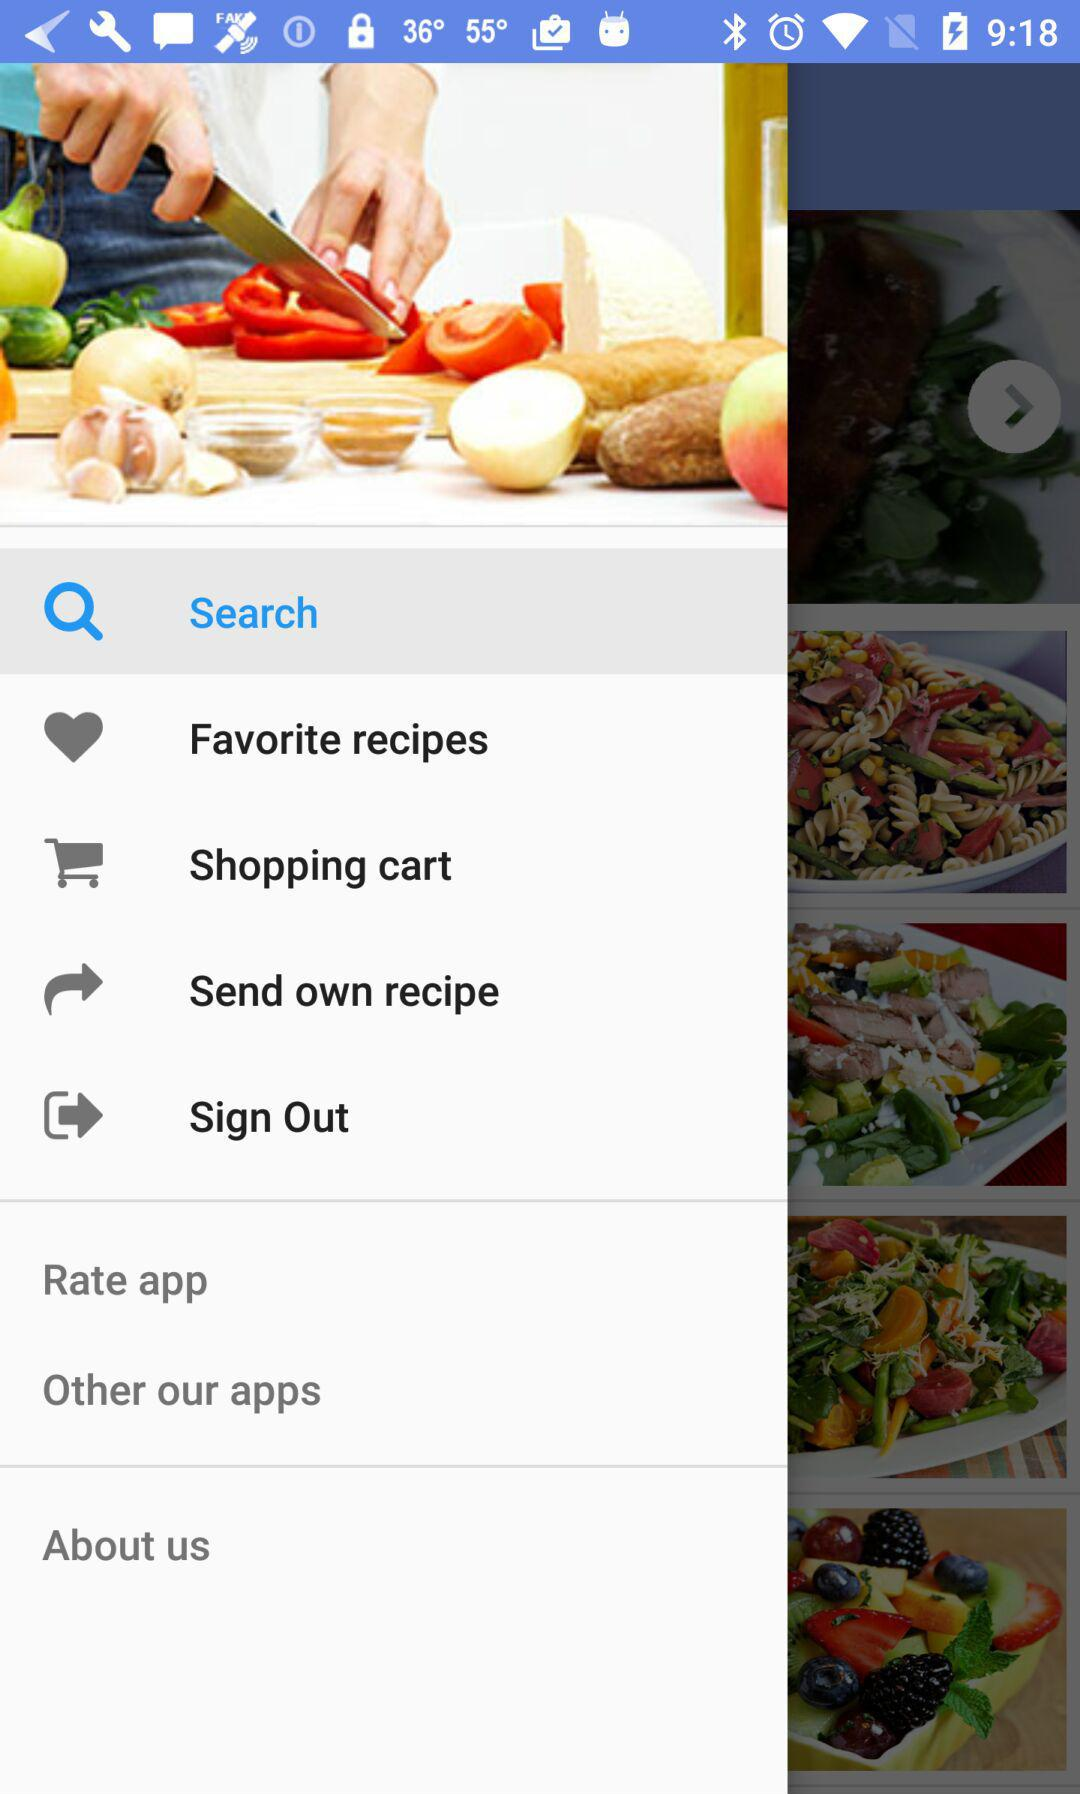Drawer: (1, 65, 788, 1794)
Icon: (44, 582, 106, 645), (44, 962, 106, 1017), (44, 1089, 106, 1142), (44, 838, 105, 891), (44, 711, 105, 764)
Image: (1, 65, 787, 525)
Text: (190, 973, 501, 1017), (190, 721, 491, 766), (44, 1371, 322, 1417), (190, 847, 454, 891), (44, 1263, 209, 1306), (188, 1099, 351, 1142), (42, 1527, 214, 1565), (190, 595, 320, 633)
UpperTaskBar: (1, 1, 1080, 64)
